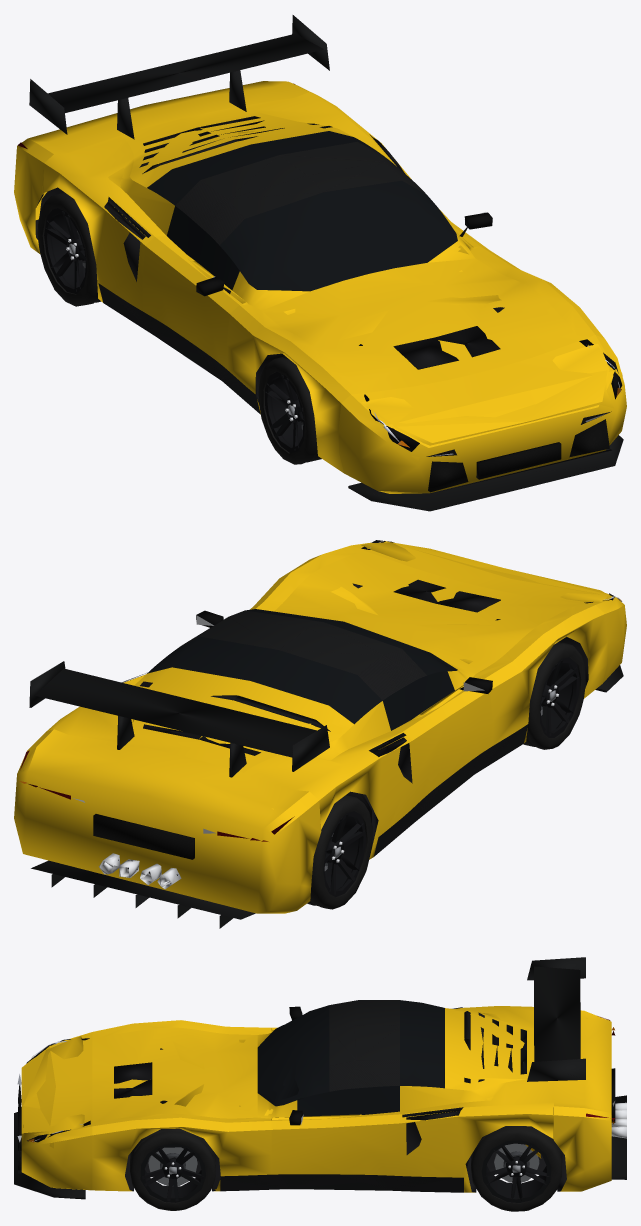
Rendered from CAR_Supercar_LOD2.fbx.
The picture shows the model from 3 angles, top to bottom: view 1: azimuth 30°, elevation 25°; view 2: azimuth 150°, elevation 25°; view 3: azimuth 270°, elevation 25°; orthographic projection. The views are drawn at different scales.
Parts seen in each view (by area): view 1: CAR_LOD2_Body, CAR_LOD2_Wheel_RR, CAR_LOD2_Wheel_FR; view 2: CAR_LOD2_Body, CAR_LOD2_Wheel_RR, CAR_LOD2_Wheel_FR; view 3: CAR_LOD2_Body, CAR_LOD2_Wheel_RL, CAR_LOD2_Wheel_FL.
Boxes of the visible parts, x1,y1,x2,y2 form: CAR_LOD2_Body: [14, 15, 626, 511]; CAR_LOD2_Wheel_RR: [38, 192, 100, 306]; CAR_LOD2_Wheel_FR: [258, 356, 321, 464]; CAR_LOD2_Body: [14, 540, 626, 928]; CAR_LOD2_Wheel_RR: [307, 795, 372, 909]; CAR_LOD2_Wheel_FR: [523, 642, 585, 749]; CAR_LOD2_Body: [14, 957, 626, 1199]; CAR_LOD2_Wheel_RL: [471, 1126, 562, 1211]; CAR_LOD2_Wheel_FL: [130, 1128, 215, 1210].
Bounding box in the file's own units: 2.08 × 1.3 × 4.78.
19 materials, 2 textured.
